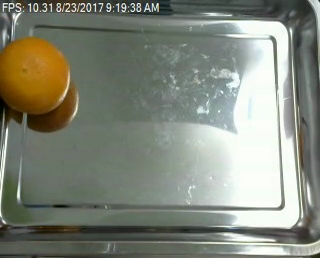Orange: (2, 37, 69, 115)
